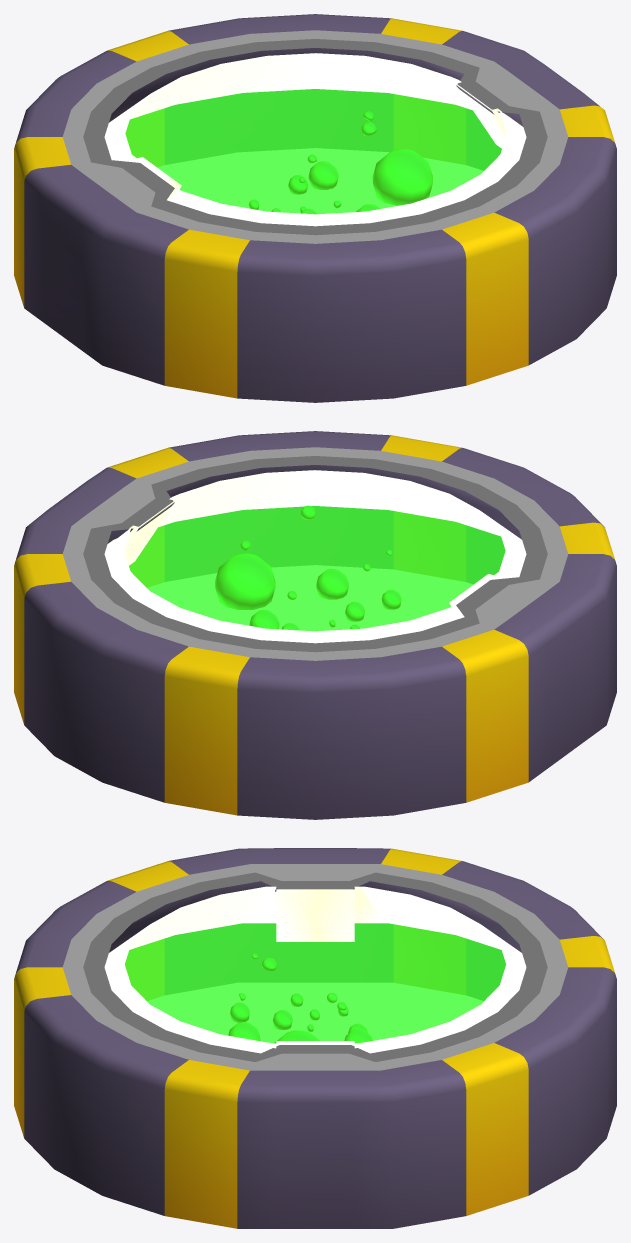
The model's file is Acid_Pool_01.fbx.
3 renders of one model, top to bottom at view 1: azimuth 30°, elevation 25°; view 2: azimuth 150°, elevation 25°; view 3: azimuth 270°, elevation 25°, orthographic.
Parts seen in each view (by area): view 1: Acid_Pool_01; view 2: Acid_Pool_01; view 3: Acid_Pool_01.
Boxes of the visible parts, left/top/right/bottom form: Acid_Pool_01: left=14, top=14, right=616, bottom=402; Acid_Pool_01: left=14, top=431, right=616, bottom=819; Acid_Pool_01: left=14, top=848, right=616, bottom=1228.
Bounding box in the file's own units: 679 × 208 × 700.
